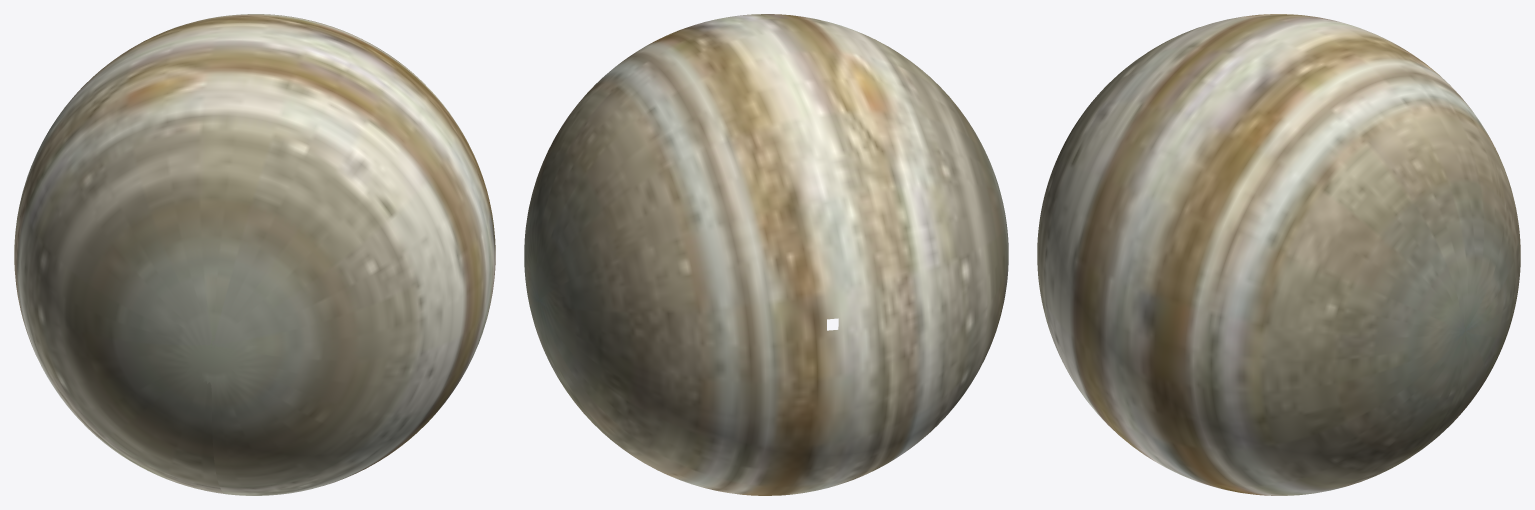
Rendered from jupiter.glb.
3 renders of one model, left to right at view 1: azimuth 30°, elevation 25°; view 2: azimuth 150°, elevation 25°; view 3: azimuth 270°, elevation 25°, orthographic.
Visible parts, largest first — view 1: Sphere; view 2: Sphere; view 3: Sphere.
Part boxes in pixels (x1,y1,x2,y2): Sphere: (14, 14, 495, 495); Sphere: (524, 14, 1008, 495); Sphere: (1037, 14, 1520, 495).
Size of the model in its own units: 12.61 by 12.58 by 12.62.
1 material, 1 textured.
